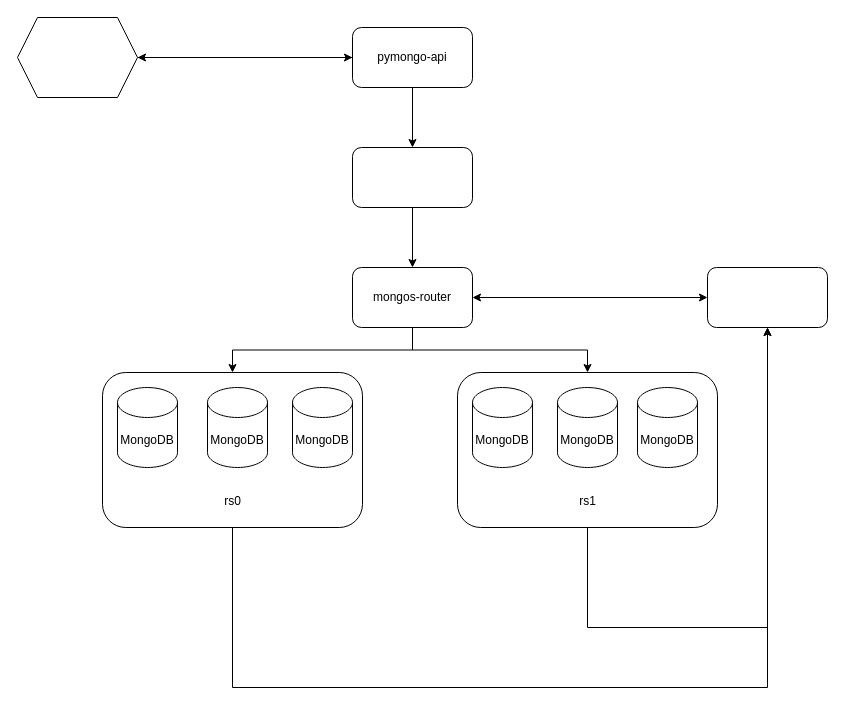
Image size: 845x713. Some labels were removed from this diagram. Here are the shapes that lost their labels. From the top down, the centre of each, then its label:
the point at 77,57: Redis
the point at 412,177: python- driver
the point at 767,297: mongo-config
